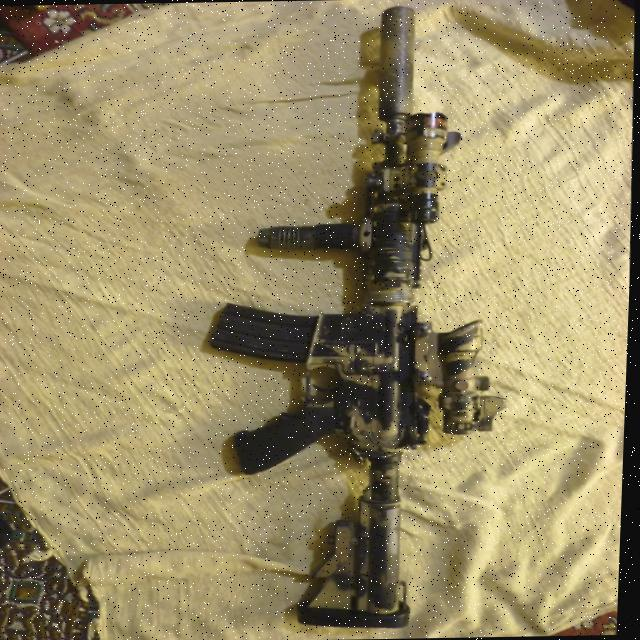firearm: (192, 2, 528, 634)
